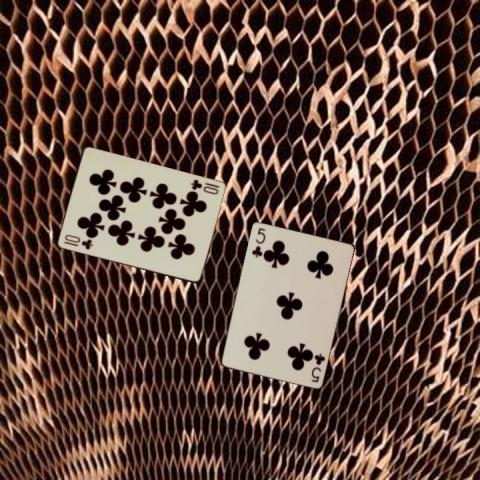10c: (61, 231, 94, 251), (187, 177, 220, 196)
5c: (248, 225, 267, 258), (308, 350, 327, 383)
